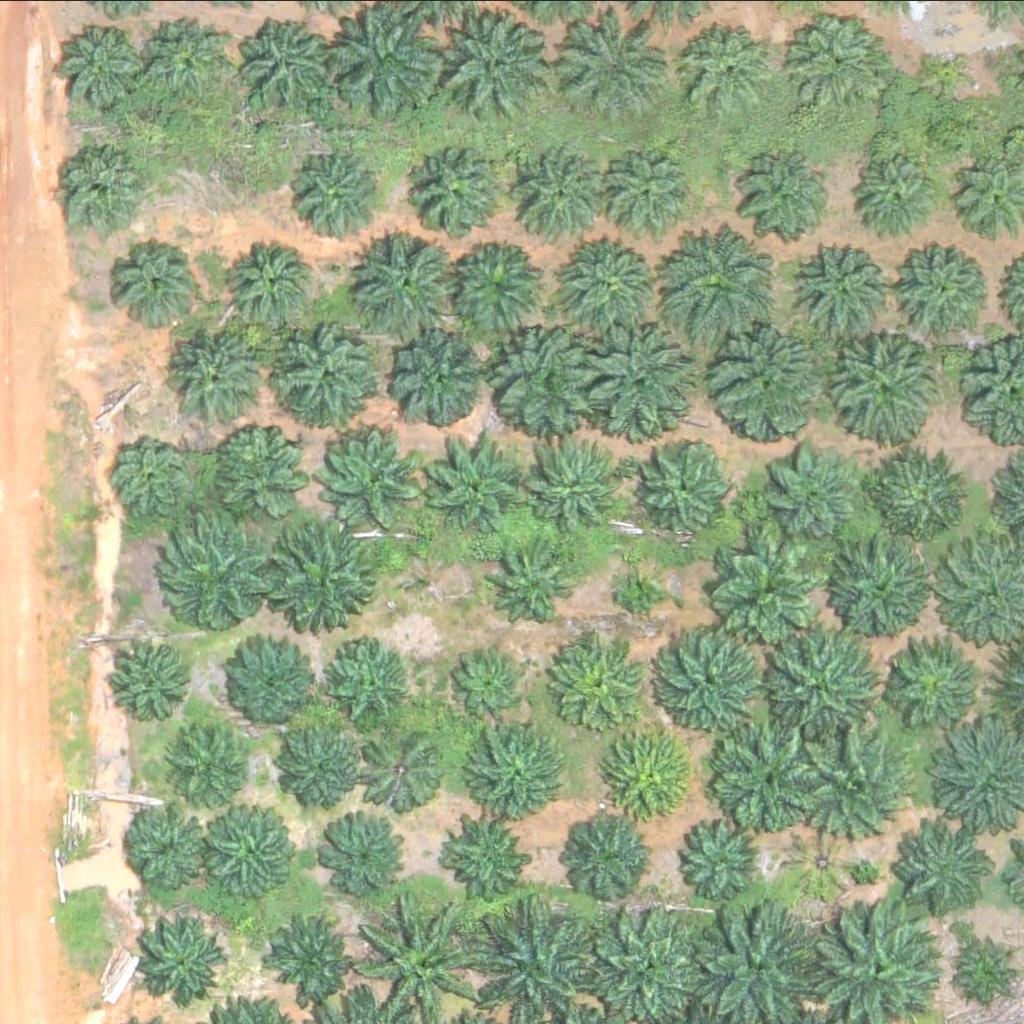Kelapa_Sawit: (792, 722, 918, 847), (648, 616, 774, 741), (764, 619, 890, 744), (704, 524, 830, 649), (154, 507, 280, 632), (659, 225, 772, 338), (586, 327, 699, 440), (331, 7, 445, 119), (706, 722, 820, 834), (347, 232, 460, 344), (275, 315, 388, 427), (494, 322, 607, 434), (563, 24, 664, 124), (291, 148, 392, 248), (512, 143, 613, 243), (601, 142, 702, 242), (553, 233, 654, 333), (445, 241, 546, 341), (167, 325, 268, 425), (710, 338, 811, 438), (886, 632, 987, 732), (831, 539, 932, 639), (769, 444, 870, 544), (634, 433, 735, 533), (530, 433, 631, 533), (424, 438, 525, 538), (321, 423, 422, 523), (272, 520, 373, 620), (783, 15, 883, 115), (450, 20, 550, 120), (234, 15, 334, 115), (406, 139, 506, 239), (387, 329, 487, 429), (890, 821, 990, 921), (472, 716, 572, 816), (199, 419, 299, 519), (832, 332, 932, 432), (681, 27, 769, 115), (56, 147, 144, 235), (795, 243, 883, 331), (227, 244, 315, 332), (211, 810, 299, 898), (326, 805, 414, 893), (438, 817, 526, 905), (555, 813, 643, 901), (603, 727, 691, 815), (561, 641, 649, 729), (883, 443, 971, 531), (264, 914, 353, 1001), (227, 640, 316, 727), (847, 147, 936, 234), (119, 808, 207, 895), (273, 721, 361, 808), (142, 10, 230, 97), (59, 22, 147, 109), (740, 151, 828, 238), (116, 235, 204, 322), (135, 919, 223, 1006), (674, 815, 762, 902), (354, 726, 442, 813), (165, 718, 253, 805), (108, 632, 196, 719), (335, 635, 423, 722), (112, 431, 200, 518), (903, 241, 991, 328), (485, 541, 573, 628), (451, 642, 526, 717), (787, 833, 850, 895), (610, 565, 660, 615), (928, 54, 978, 104)
